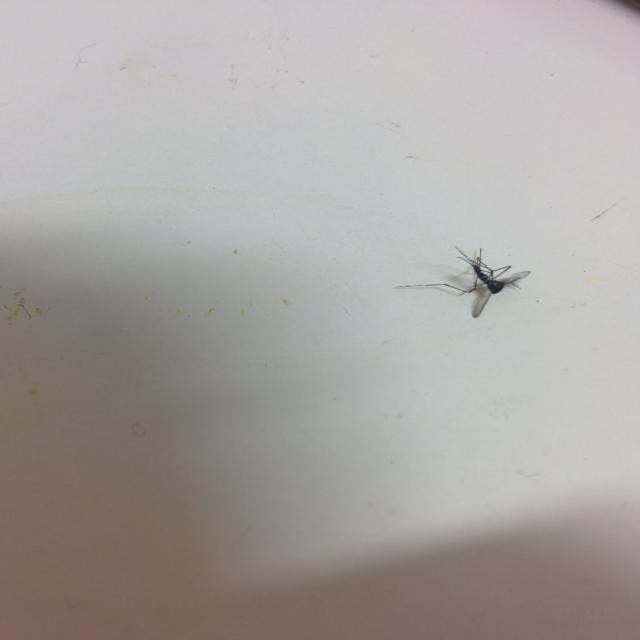albopictus: (396, 238, 538, 320)
